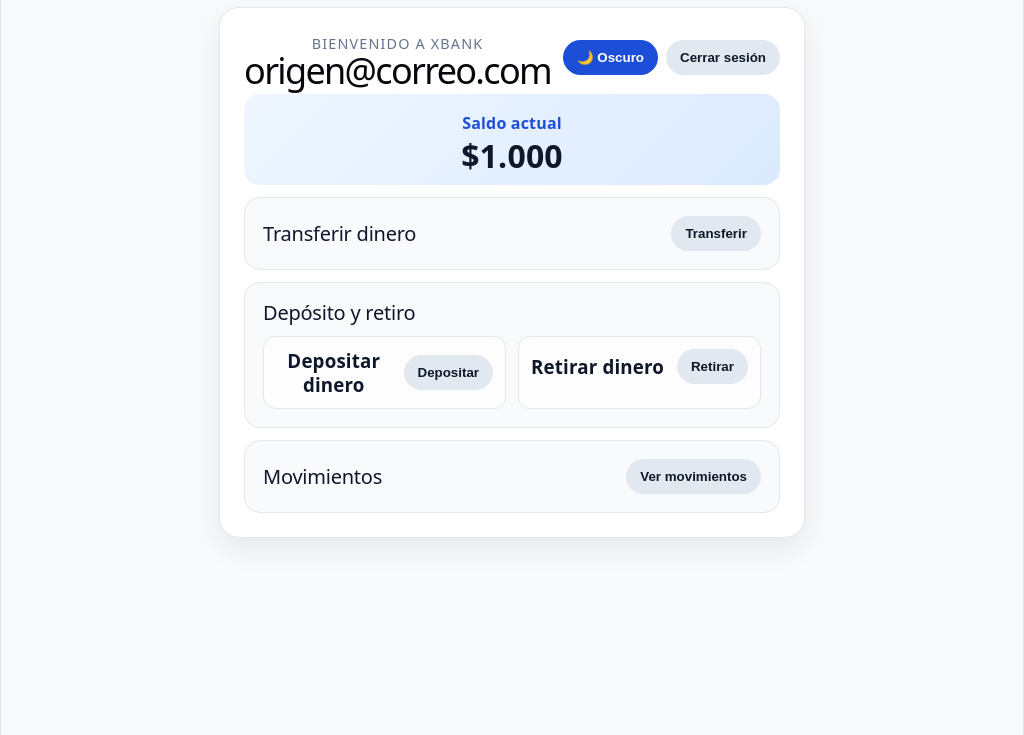
Test case: Historial › renderiza el historial ordenado del movimiento más reciente al más antiguo
This screenshot has width=1024, height=735.
Click the button "Ver movimientos" at [694, 476], box [626,459,761,494]
(page scrolled)
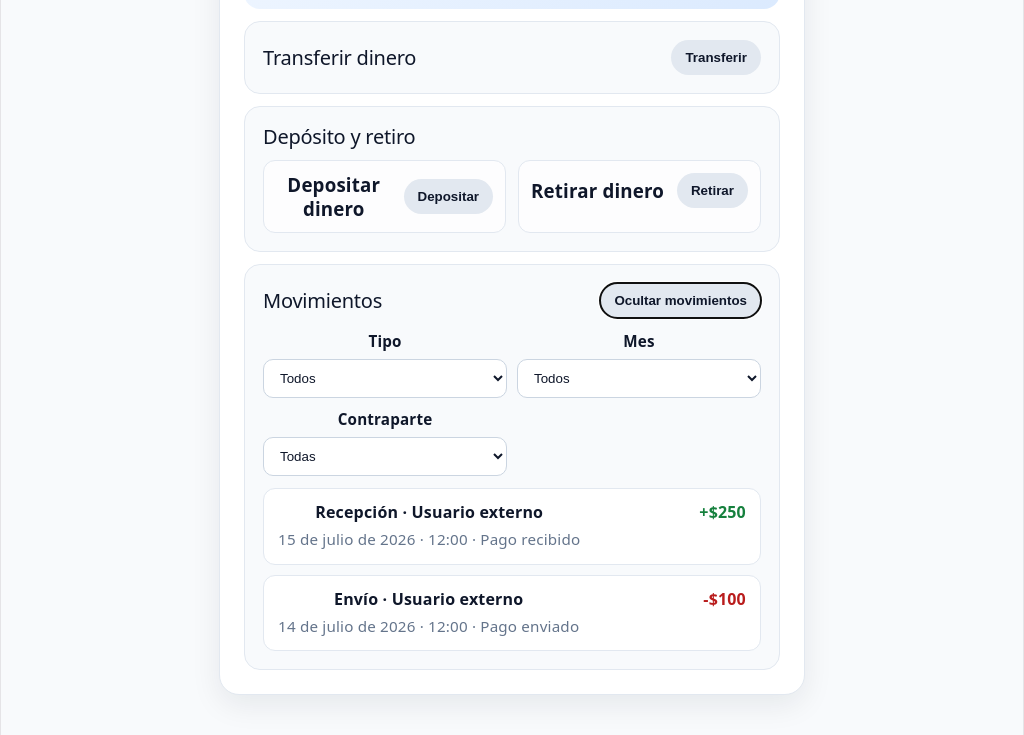
Check: the list item that starts with "Recepción" shows "Pago recibido", box [480,529,580,549]
Check: the list item that starts with "Recepción" is shown, box [315,501,398,523]
Check: the list item that starts with "Envío" shows "Pago enviado", box [480,616,579,636]
